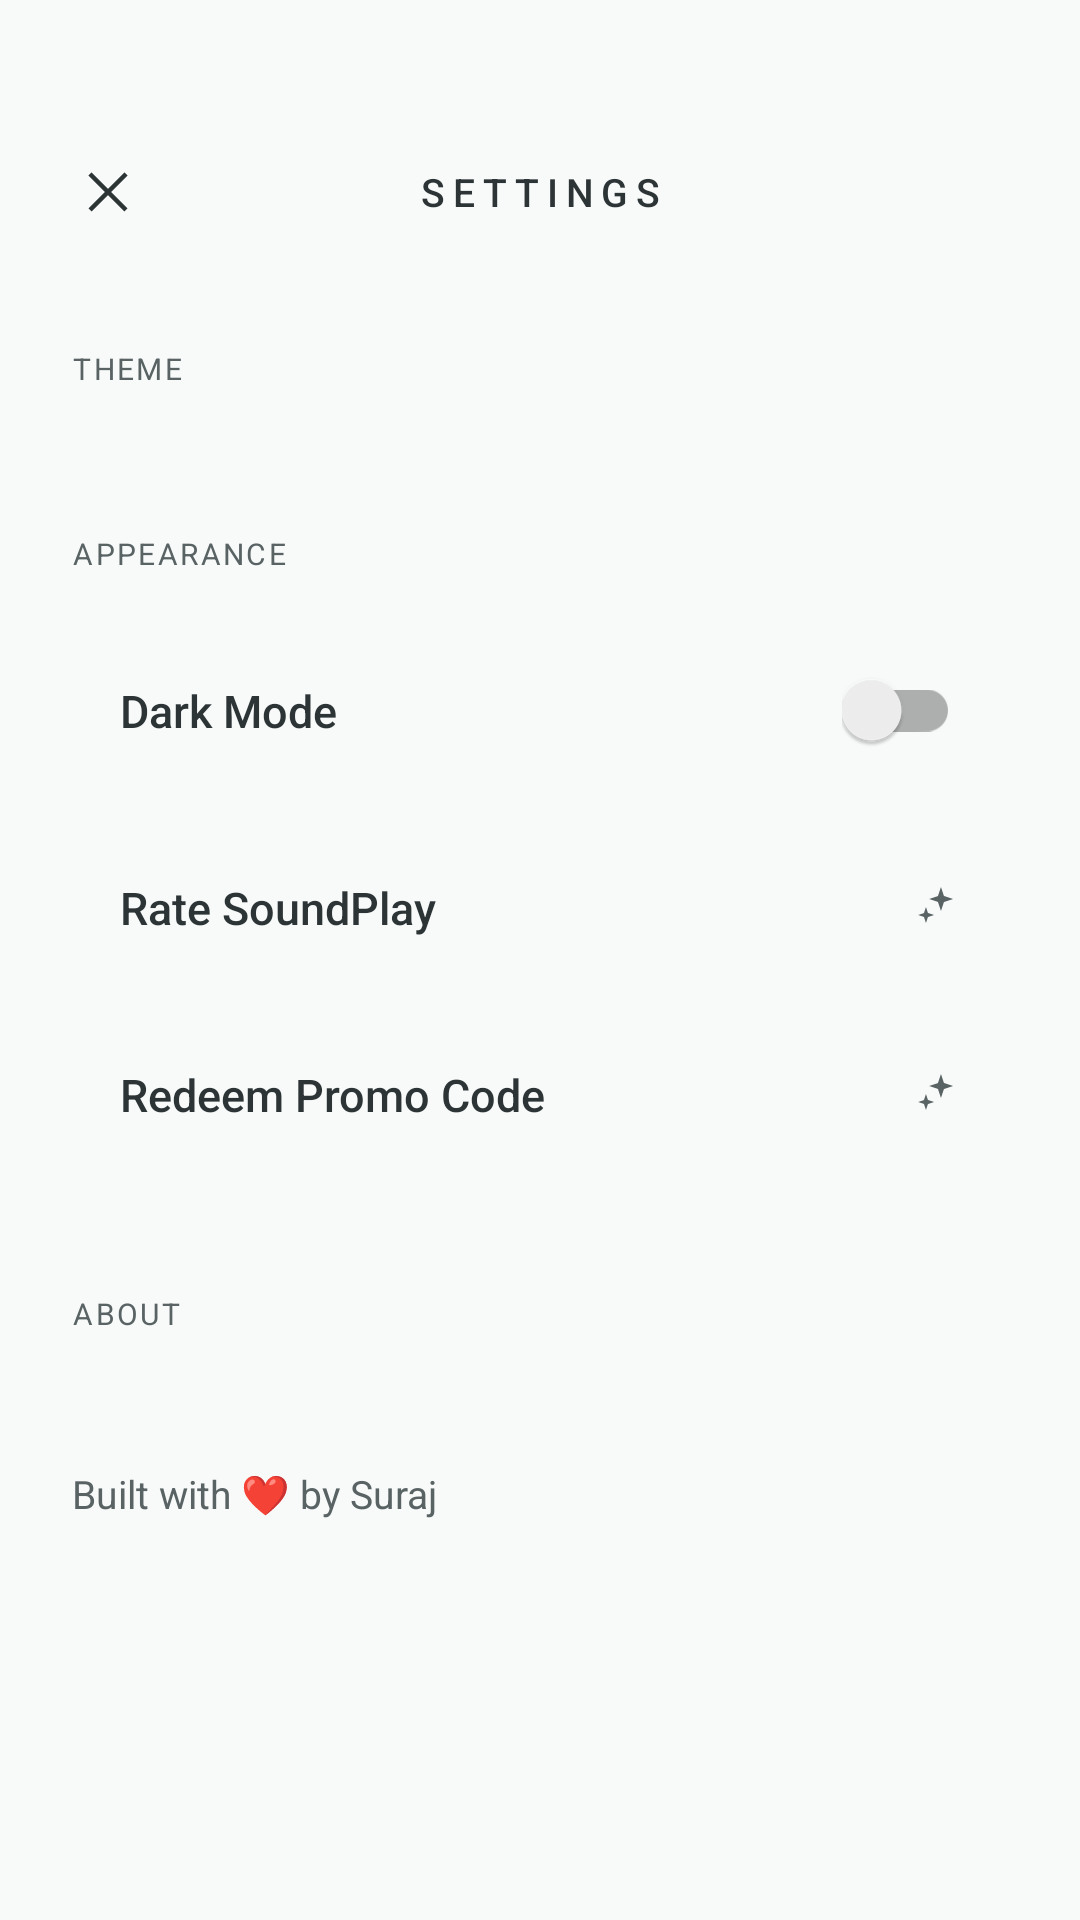

Named icons in this screenshot (1080×1920) and their centers, (x,y):
Back: (108,192)
